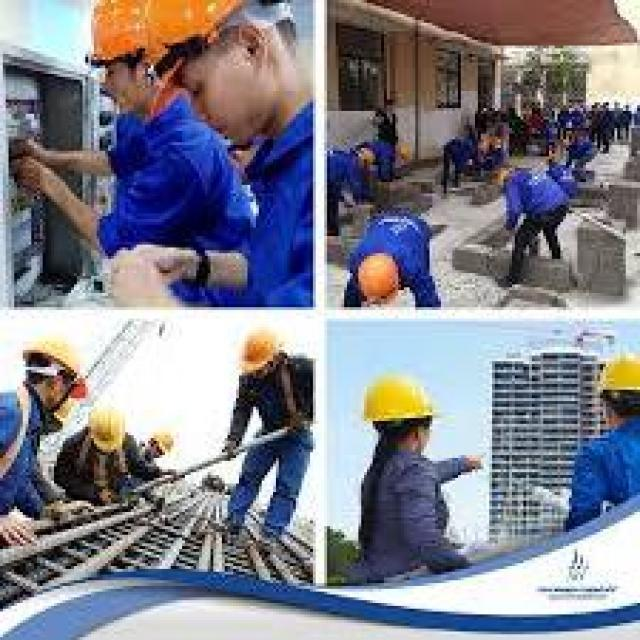safety_helmet: (71, 0, 295, 74), (8, 318, 96, 395), (355, 364, 443, 429), (227, 312, 293, 375), (76, 395, 136, 454), (586, 344, 639, 409)
